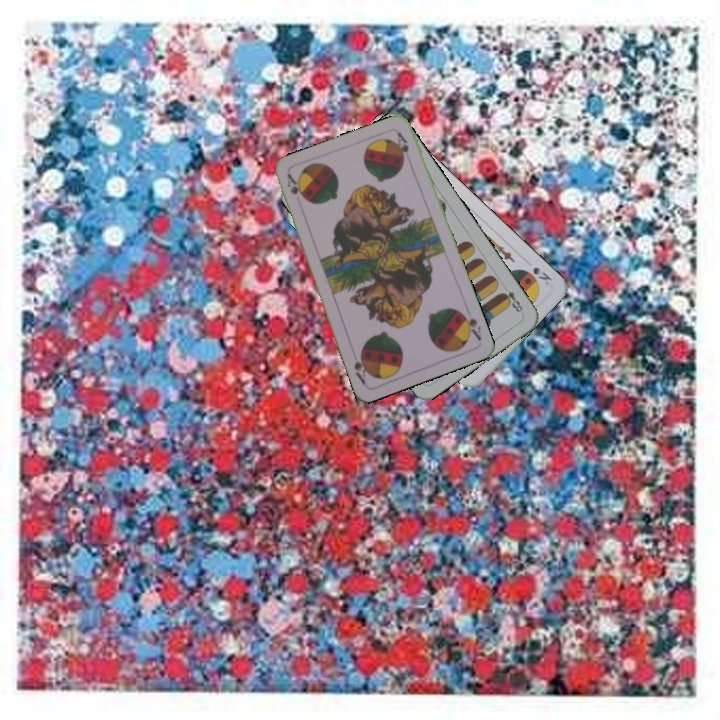E8: (497, 287, 526, 317)
SA: (456, 308, 484, 343), (283, 170, 305, 201)
SK: (529, 263, 555, 288)
